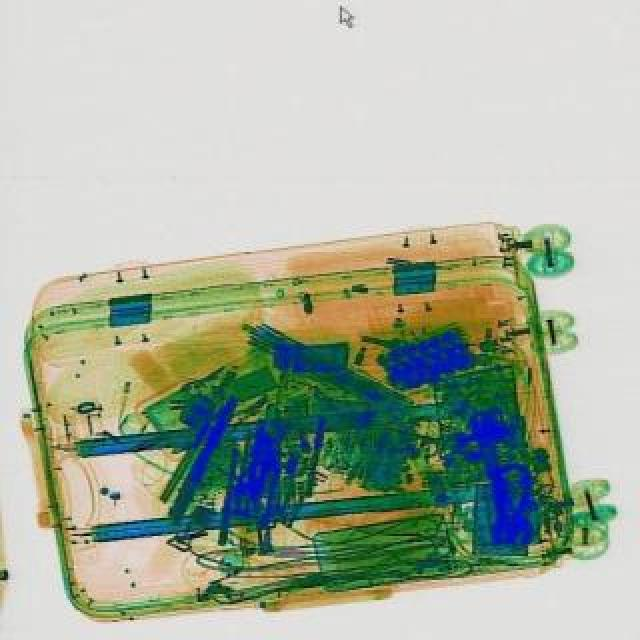scissors: (454, 406, 538, 550), (260, 430, 290, 526)
